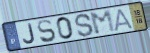0: (55, 16, 76, 41)
A: (114, 7, 135, 32)
J: (22, 22, 37, 45)
M: (88, 9, 118, 36)
S: (74, 12, 95, 38), (36, 19, 57, 44)
